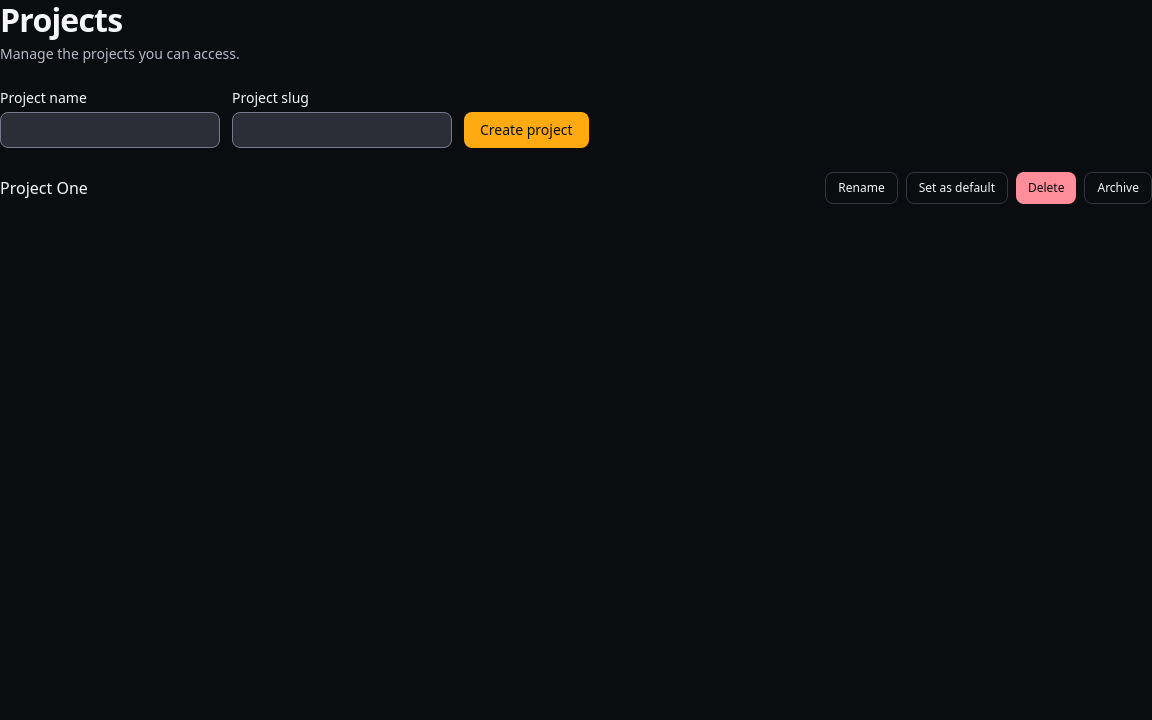
Test case: ProjectsPage › keeps a failed deletion error inside the open modal
Expected: the text "Project One" is shown, [0,176,88,200]
Click the button with aria-label "Delete Project One" at (1046, 188), box [1016,172,1076,204]
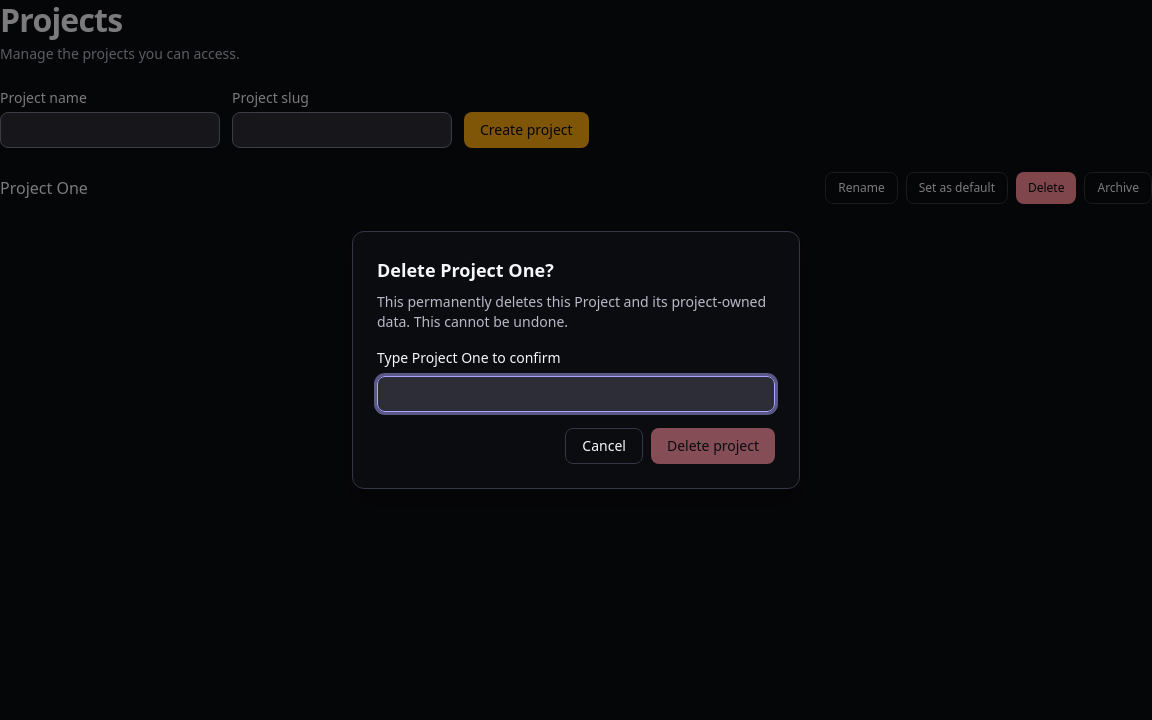
Type "Project One" into the field named "Project deletion confirmation" at (576, 394), box [377,376,775,412]
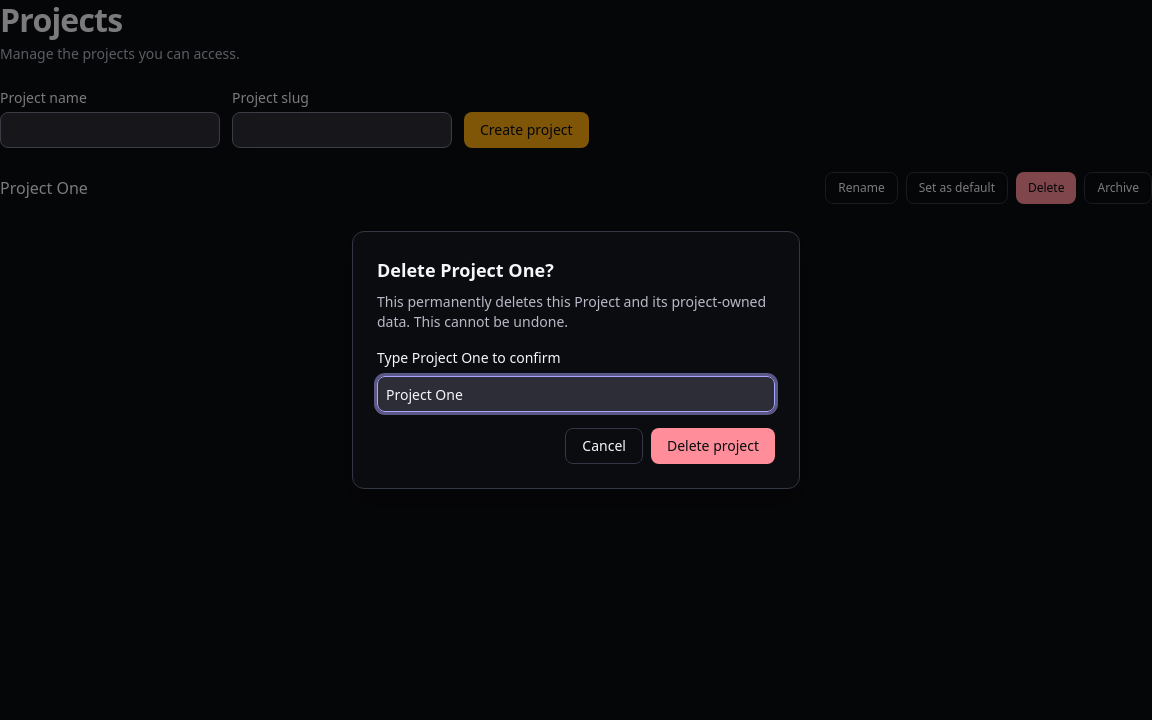
Click the button "Delete project" at (713, 446), box [651,428,775,464]
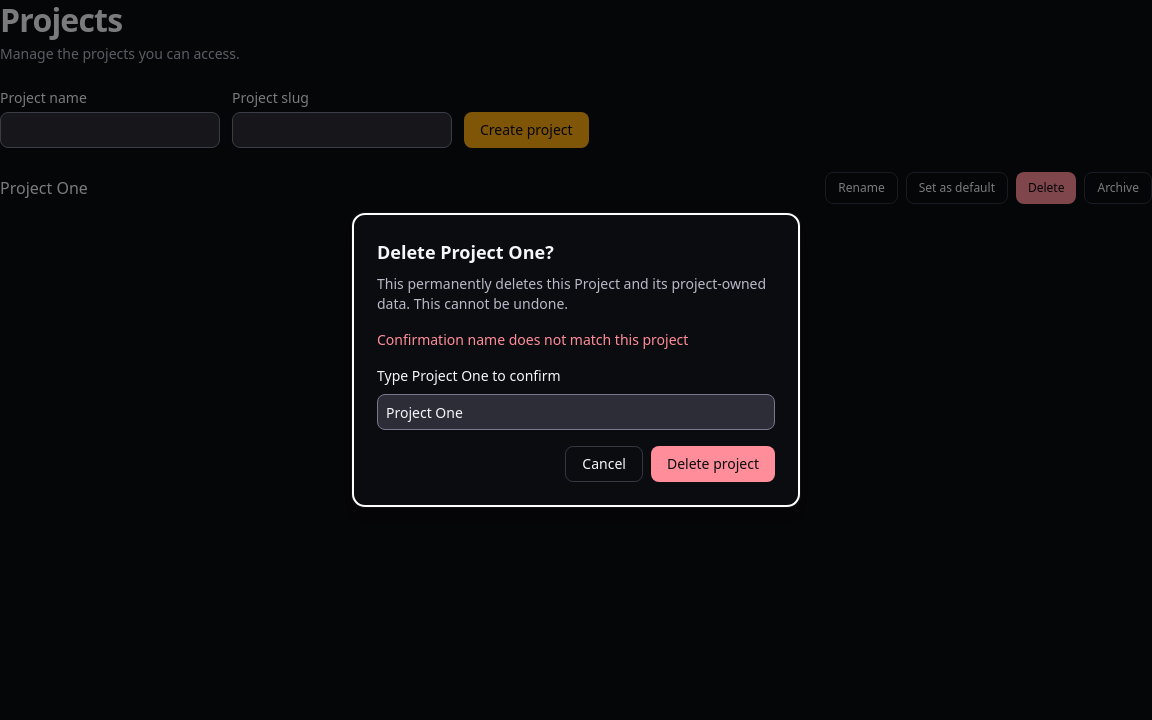
Result: the number of messages is 1 at [377,330,688,349]
